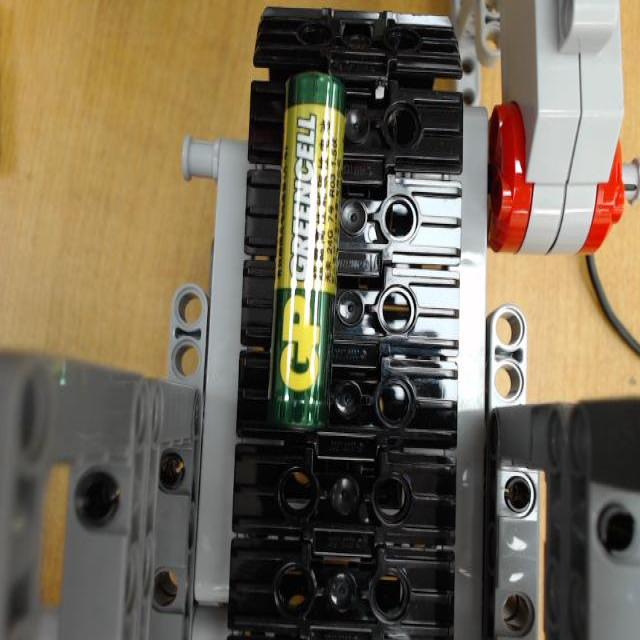AAA: (268, 65, 346, 447)
